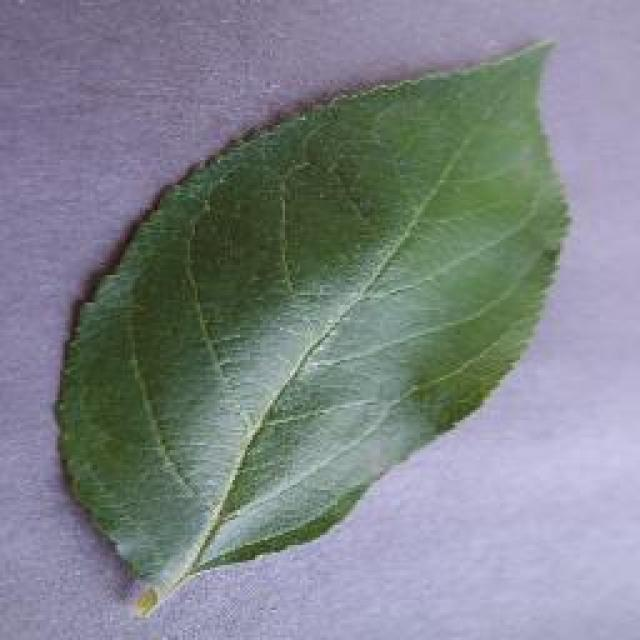apple scab disease: (50, 35, 572, 617)
